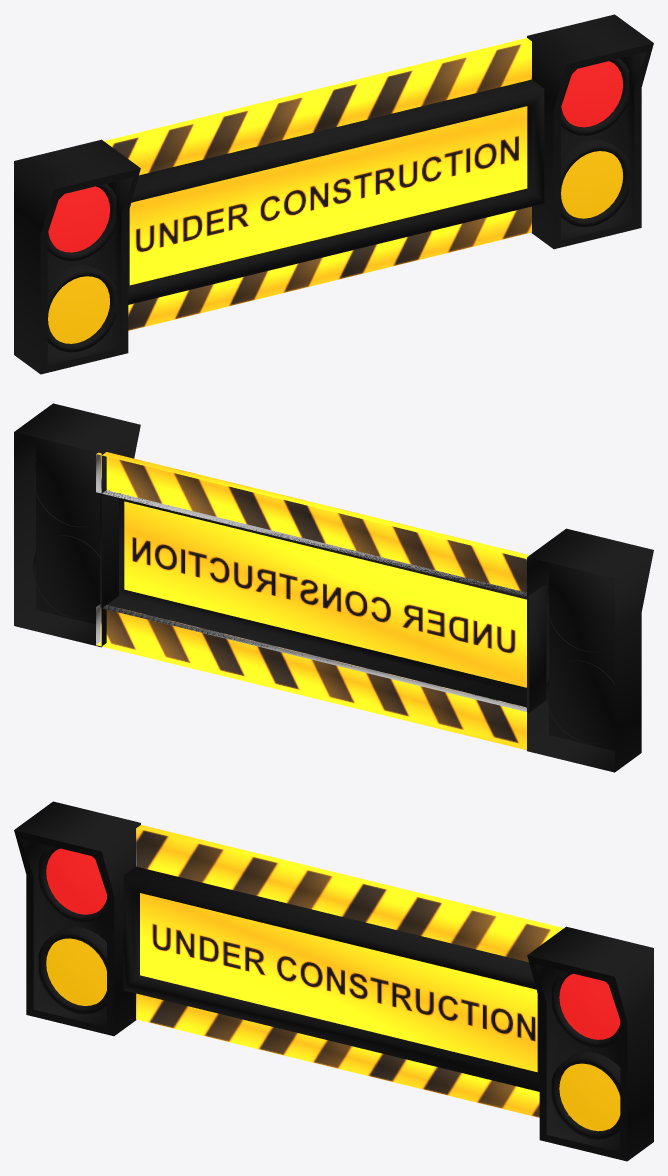
File: warningLetter.glb
3 views of the same model, one above another, from view 1: azimuth 30°, elevation 25°; view 2: azimuth 150°, elevation 25°; view 3: azimuth 330°, elevation 25° (orthographic).
Parts seen in each view (by area): view 1: warningLetter, warningLetter_yellow, warningLetter_red; view 2: warningLetter; view 3: warningLetter, warningLetter_yellow, warningLetter_red.
Part boxes in pixels (<box>): warningLetter: <box>14,14,653,374</box>; warningLetter_yellow: <box>48,151,622,343</box>; warningLetter_red: <box>48,61,622,252</box>; warningLetter: <box>14,403,653,772</box>; warningLetter: <box>14,801,653,1161</box>; warningLetter_yellow: <box>46,938,620,1131</box>; warningLetter_red: <box>46,848,620,1039</box>.
Bounding box in the file's own units: 7.1 × 2.19 × 0.8011.
3 materials, 1 textured.
